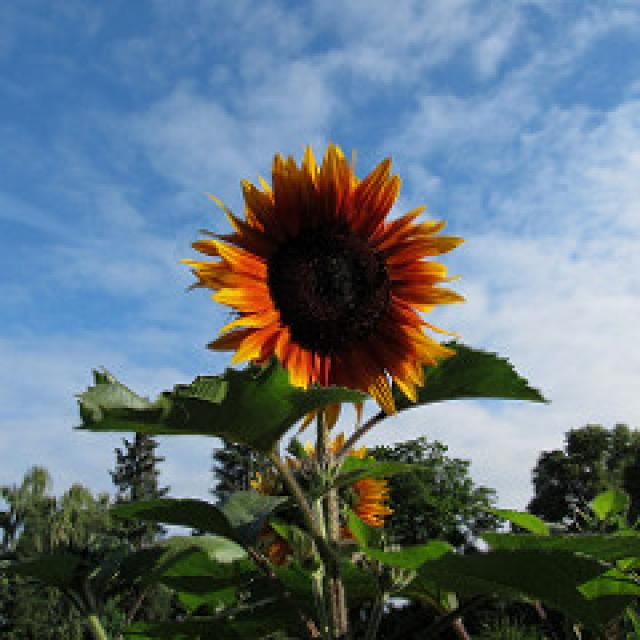sunflower: (187, 153, 473, 408)
